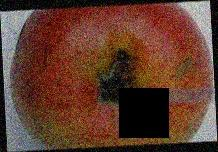rotten apple: (3, 6, 213, 146)
